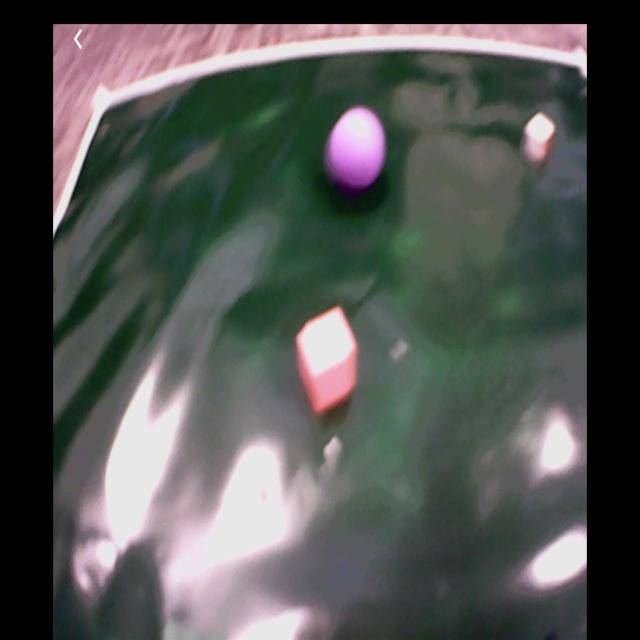ball: (328, 108, 387, 189)
